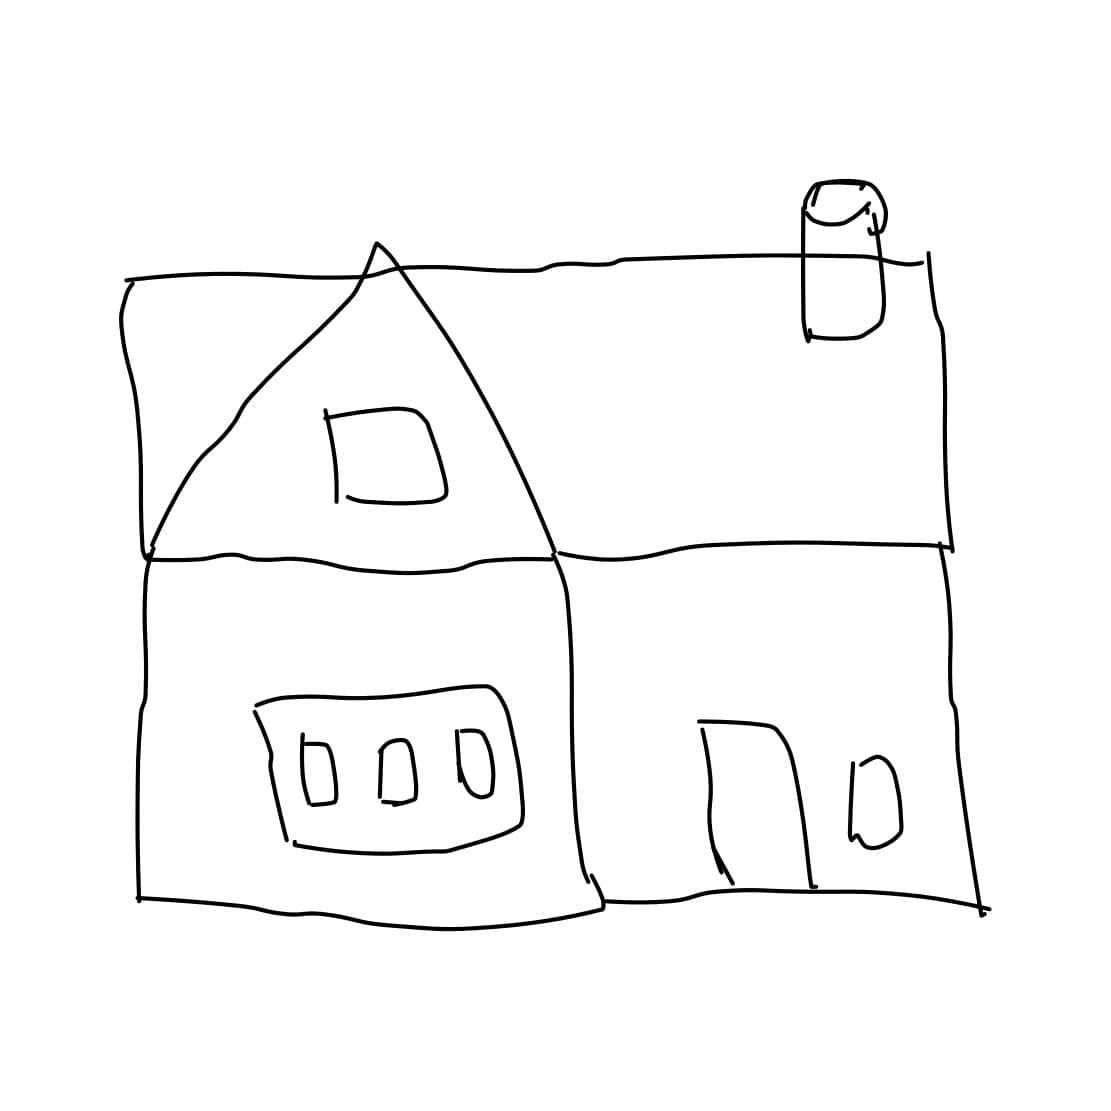House: (73, 160, 1017, 946)
